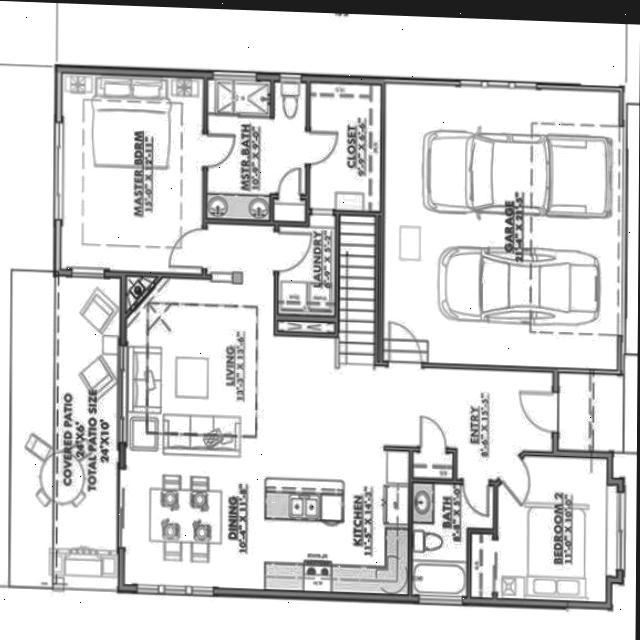room: (121, 223, 556, 597), (383, 83, 618, 368), (62, 72, 203, 271), (469, 453, 622, 602), (54, 275, 119, 588), (207, 77, 306, 220), (411, 482, 495, 596), (310, 82, 380, 209), (278, 213, 335, 316), (338, 214, 375, 362), (412, 451, 453, 477), (277, 320, 336, 332)
